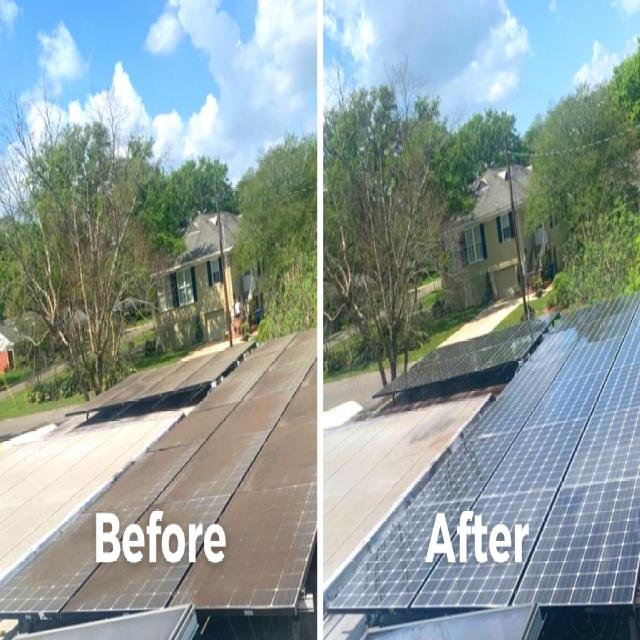clean-solar-panel: (325, 293, 640, 630), (374, 313, 558, 401)
